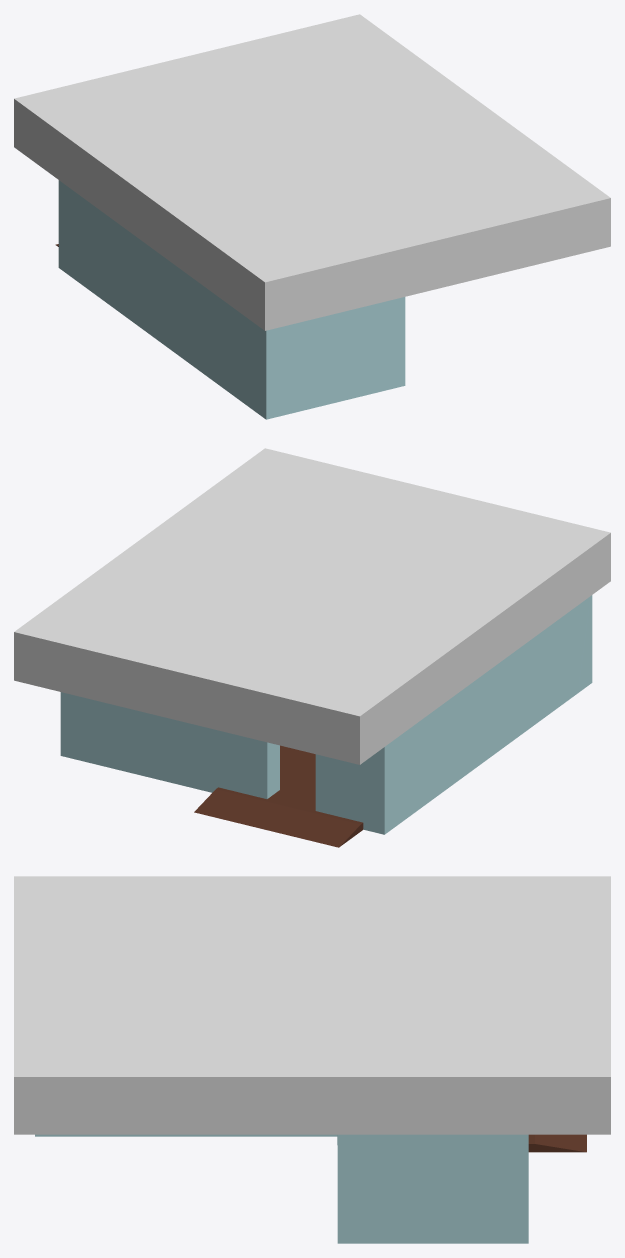
Rendered from room.dae.
The picture shows the model from 3 angles, top to bottom: view 1: azimuth 30°, elevation 25°; view 2: azimuth 150°, elevation 25°; view 3: azimuth 270°, elevation 25°; orthographic projection. The views are drawn at different scales.
Visible parts, largest first — view 1: roof, room-col; view 2: roof, room-col; view 3: roof, room-col.
Part boxes in pixels (bbox=[...]): roof: bbox=[14, 14, 610, 330]; room-col: bbox=[55, 180, 405, 419]; roof: bbox=[14, 448, 610, 764]; room-col: bbox=[60, 595, 592, 847]; roof: bbox=[14, 876, 610, 1134]; room-col: bbox=[35, 1134, 586, 1243].
Bounding box in the file's own units: 14.91 × 18.74 × 6.02.
